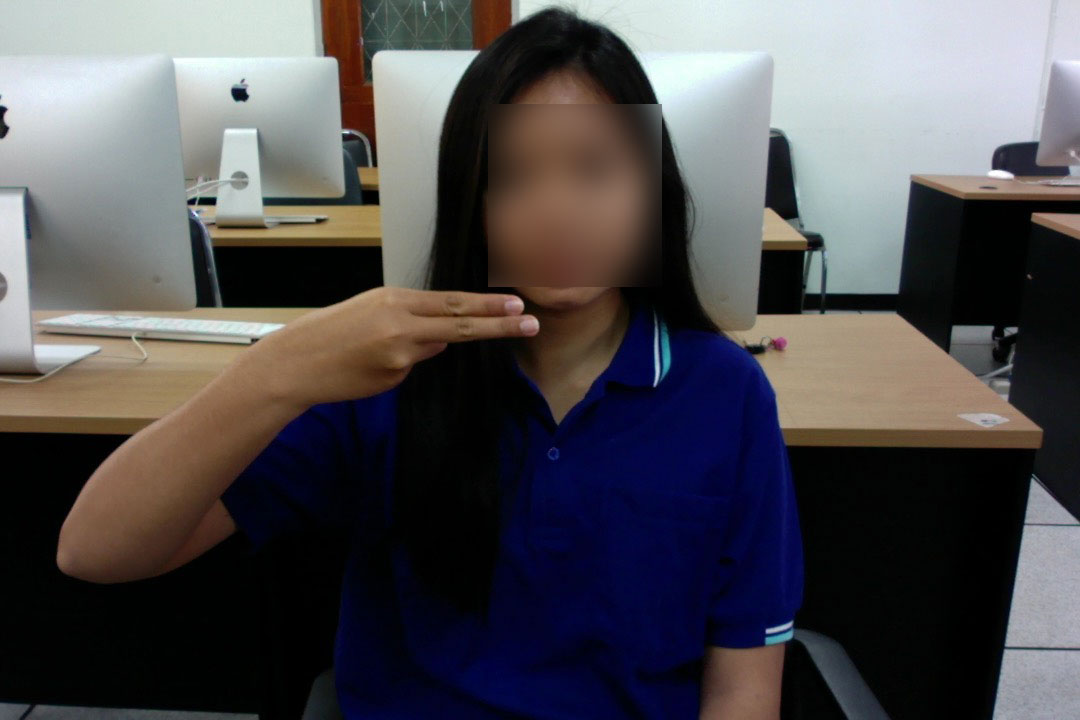hor: (290, 281, 544, 411)
